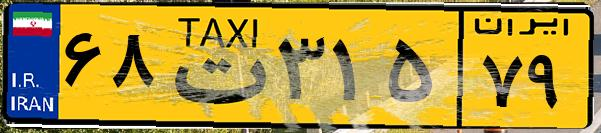1: (330, 28, 385, 110)
3: (270, 28, 330, 110)
5: (385, 28, 445, 110)
6: (57, 26, 110, 100)
7: (475, 38, 525, 113)
8: (110, 28, 158, 98)
9: (525, 38, 570, 115)
ت: (158, 12, 270, 120)
